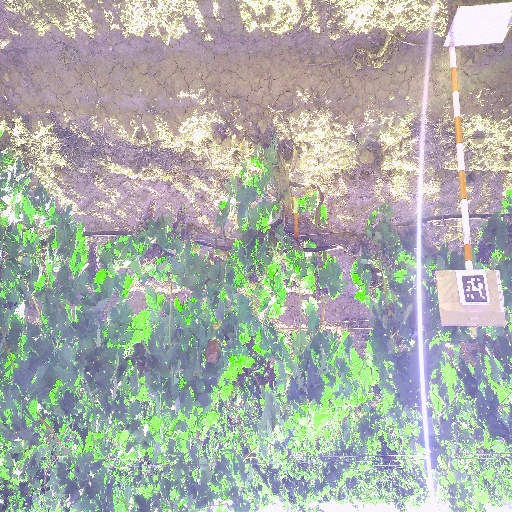QR: (465, 275, 486, 302)
